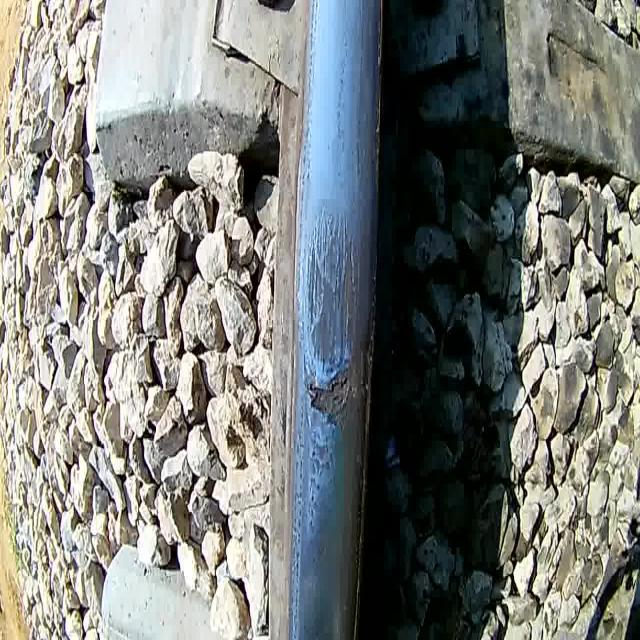Spallings: (299, 354, 363, 436)
Squats: (301, 200, 365, 374), (304, 435, 338, 541)
